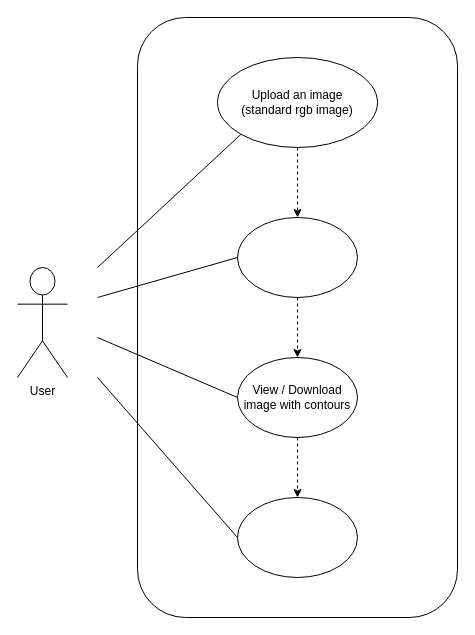
The diagram is 475 pixels wide and 635 high, and some of its shapes have lost their labels. The shapes that lost their labels are listed below. From the top down, each one's centre as x and y in pixels, then its label:
[297,257]: View / Download edged image
[297,537]: count the number of objects in the image
